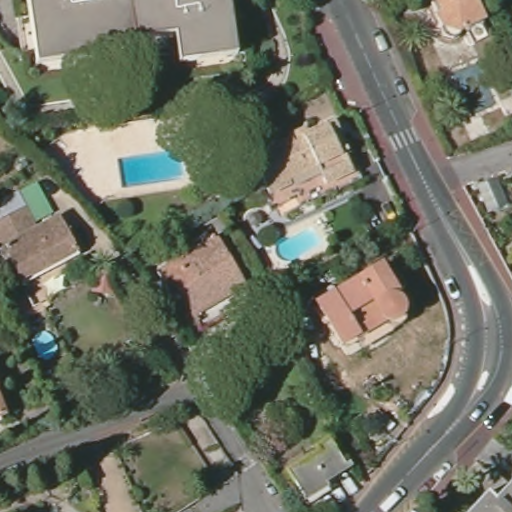pool: (442, 61, 498, 117), (119, 151, 186, 189), (276, 228, 323, 262), (31, 330, 63, 360)
